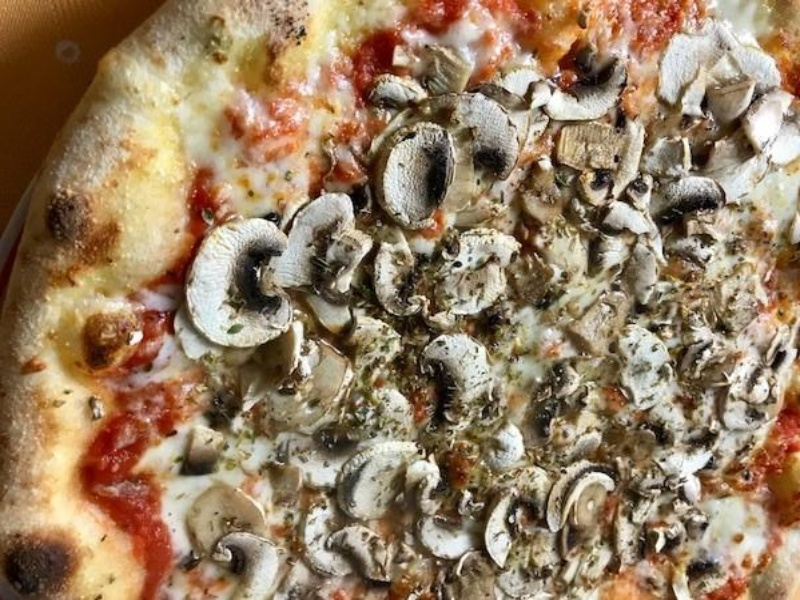champignon: (183, 212, 293, 349), (369, 119, 454, 232), (207, 528, 287, 600)
